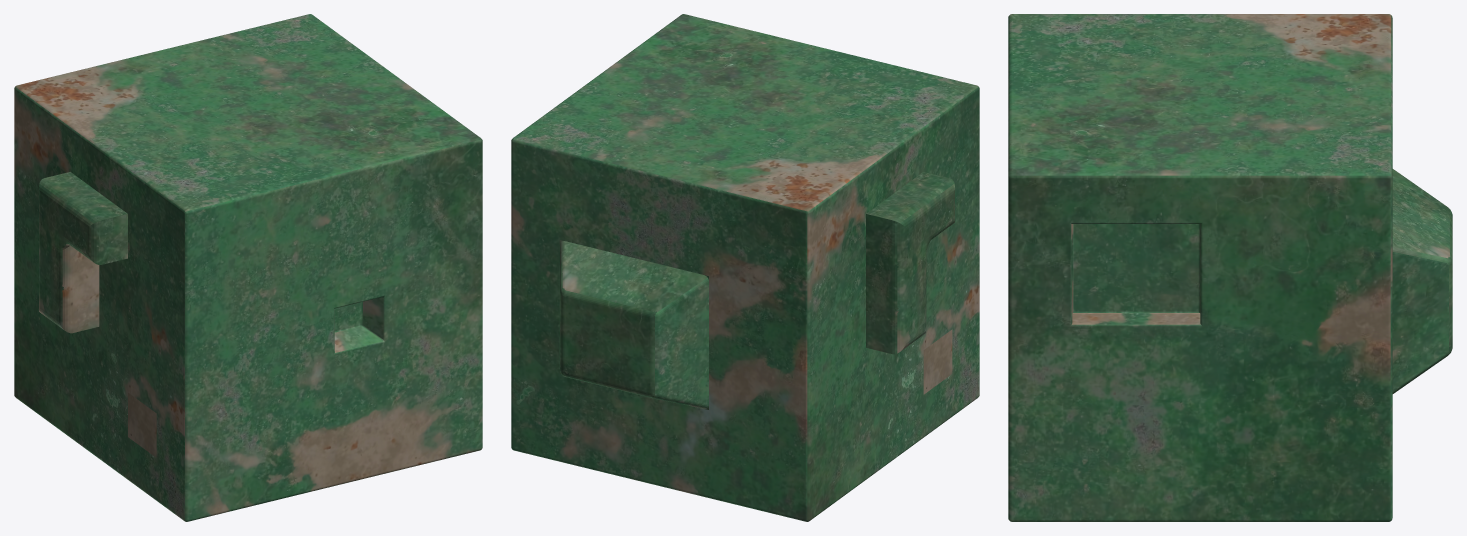
File: modedCube.fbx
3 renders of one model, left to right at view 1: azimuth 30°, elevation 25°; view 2: azimuth 150°, elevation 25°; view 3: azimuth 270°, elevation 25°, orthographic. The views are drawn at different scales.
Parts seen in each view (by area): view 1: modedCube; view 2: modedCube; view 3: modedCube.
Boxes of the visible parts, bbox=[...] form: modedCube: bbox=[14, 14, 482, 521]; modedCube: bbox=[511, 14, 979, 521]; modedCube: bbox=[1008, 14, 1452, 521].
Bounding box in the file's own units: 89.42 × 80 × 92.53.
Materials: 1 (1 with a texture image).
